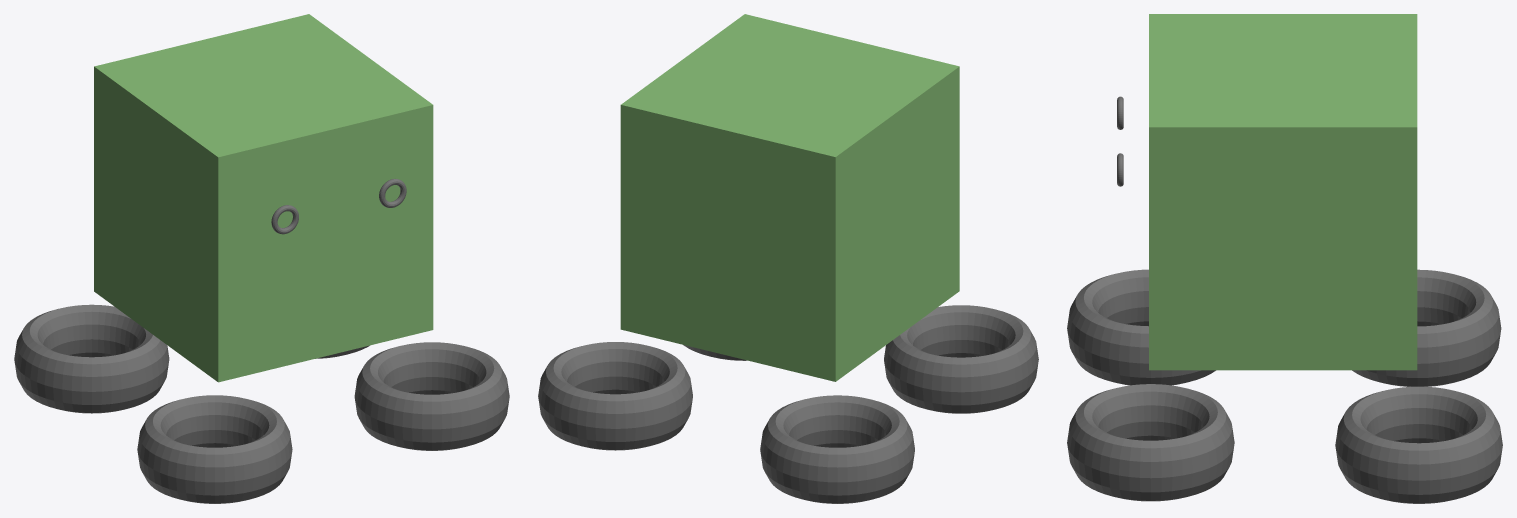
Rendered from BossEnemy.gltf.
3 renders of one model, left to right at view 1: azimuth 30°, elevation 25°; view 2: azimuth 150°, elevation 25°; view 3: azimuth 270°, elevation 25°, orthographic. The views are drawn at different scales.
Parts seen in each view (by area): view 1: トーラス.005; view 2: トーラス.005; view 3: トーラス.005.
Boxes of the visible parts, bbox=[...] form: トーラス.005: bbox=[14, 14, 509, 503]; トーラス.005: bbox=[538, 14, 1038, 503]; トーラス.005: bbox=[1067, 14, 1502, 503].
Bounding box in the file's own units: 33.14 × 28.47 × 32.5.
Materials: 1 (1 with a texture image).
